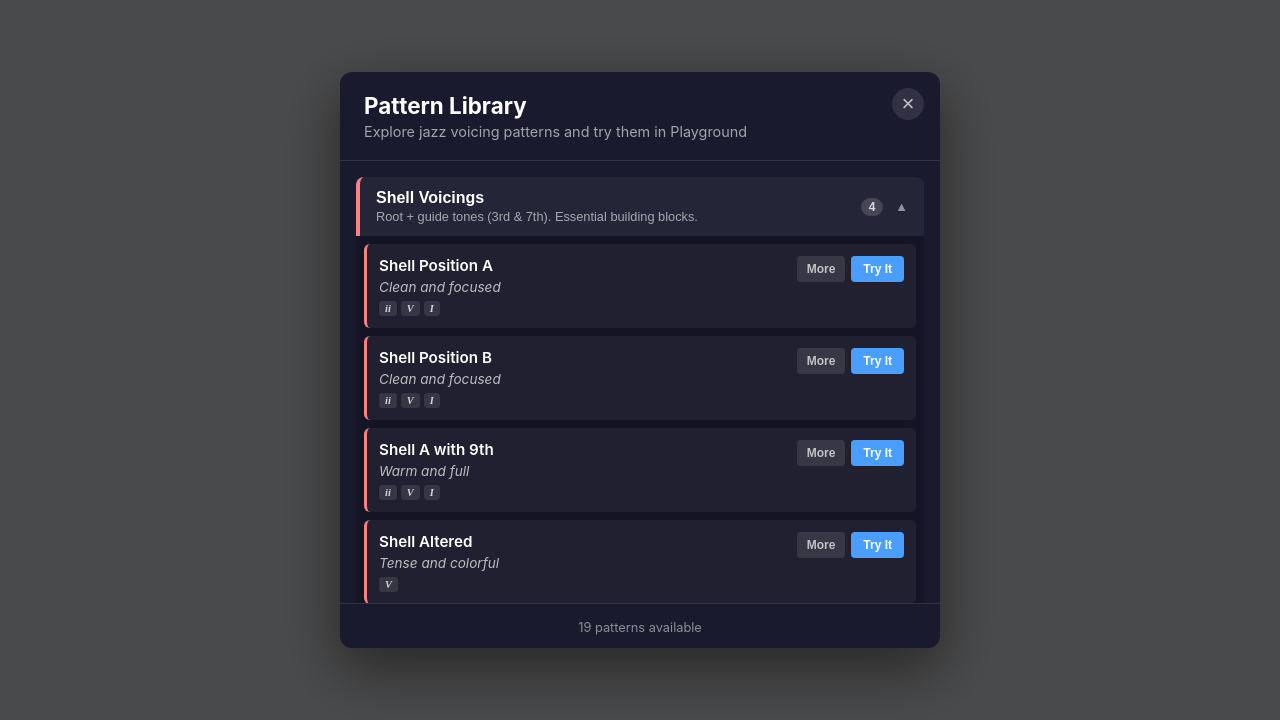
Scenario: PatternBrowser › shows More button to expand pattern details
// Find and click the first "More" button
Click the button "More" in the row of "Shell Position A".
click(821, 269)  # box [797,256,845,282]
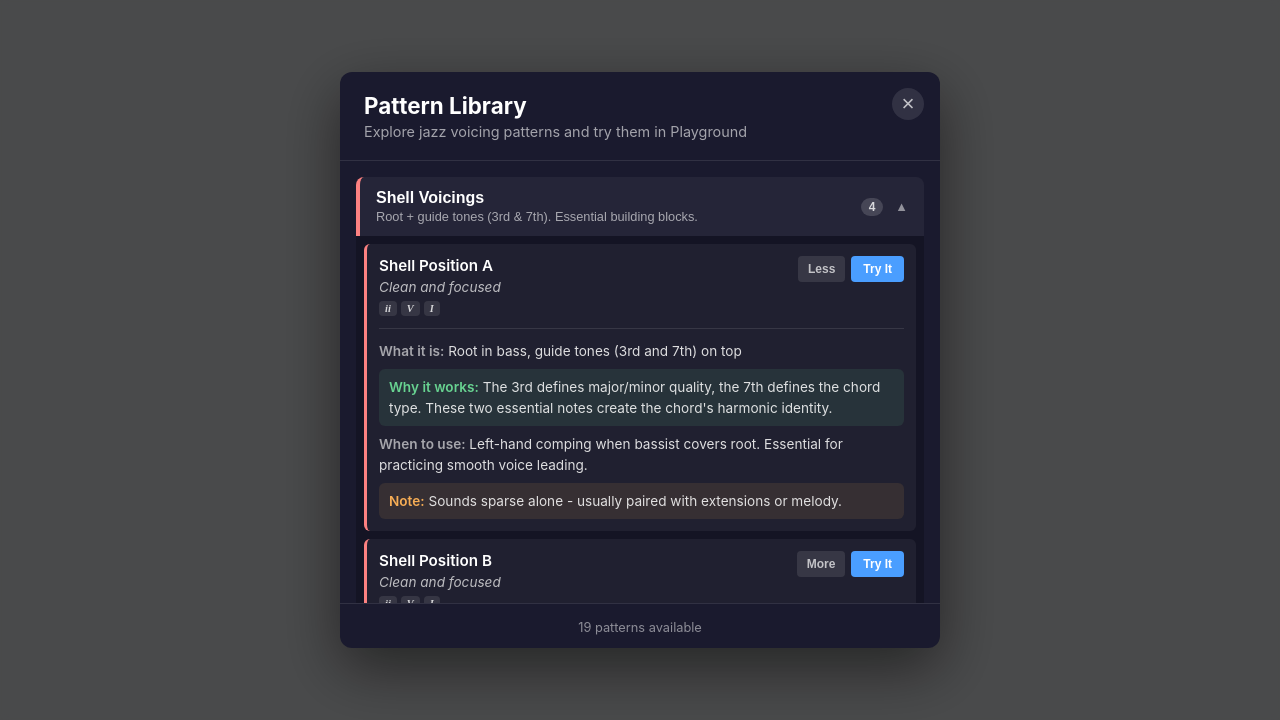
Check: the button "Less" is shown, box [798,256,845,282]
Check: the text "What it is:" is shown, box [379,343,444,359]
Check: the text "Why it works:" is shown, box [389,379,479,395]
